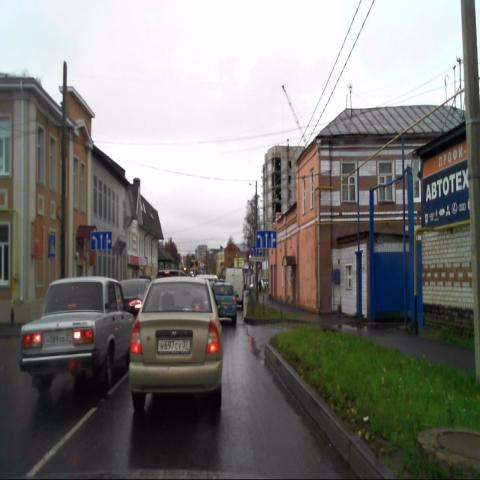5_15_1: (90, 232, 112, 250), (256, 230, 276, 248), (250, 245, 262, 256)
